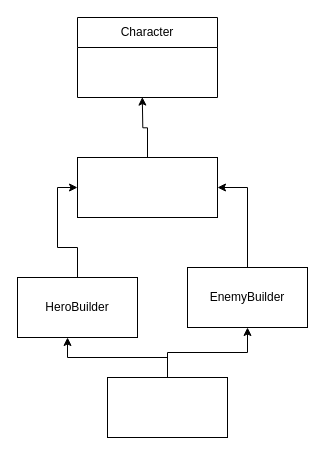
This 325x455 diagram has some shape labels left out. Each missing label, with the centre of its shape:
CharacterBuilder: the point at 147,187
Director: the point at 167,407
